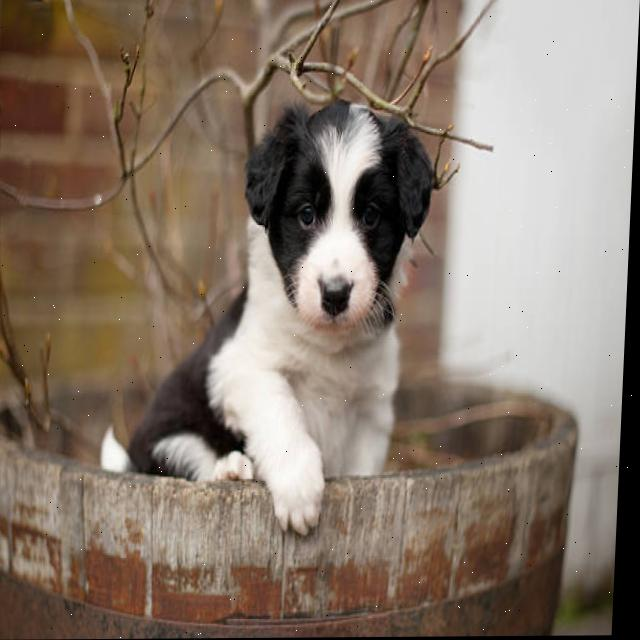BORDER_COLLIE: (77, 104, 446, 553)
